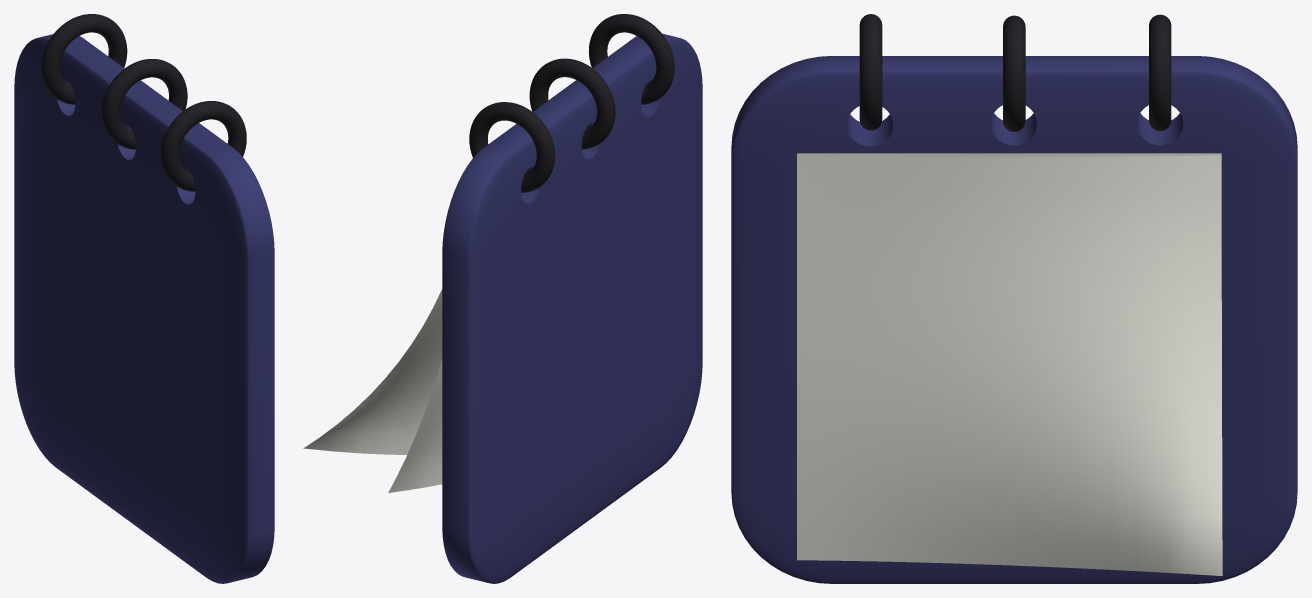
File: calendar1.glb
3 renders of one model, left to right at view 1: azimuth 30°, elevation 25°; view 2: azimuth 150°, elevation 25°; view 3: azimuth 270°, elevation 25°, orthographic. The views are drawn at different scales.
Visible parts, largest first — view 1: Cube, Torus.002, Torus, Torus.001; view 2: Cube, Plane.002, Plane.001, Torus, Torus.001, Torus.002; view 3: Plane.002, Cube, Torus.002, Torus.001, Torus, Plane.001.
Part boxes in pixels (bbox=[...]): Cube: bbox=[14, 34, 274, 583]; Torus.002: bbox=[161, 101, 246, 191]; Torus: bbox=[41, 14, 127, 104]; Torus.001: bbox=[101, 59, 187, 149]; Cube: bbox=[442, 33, 702, 583]; Plane.002: bbox=[303, 289, 442, 454]; Plane.001: bbox=[388, 359, 442, 492]; Torus: bbox=[469, 102, 555, 192]; Torus.001: bbox=[529, 58, 615, 149]; Torus.002: bbox=[588, 14, 674, 104]; Plane.002: bbox=[797, 155, 1222, 575]; Cube: bbox=[731, 56, 1297, 583]; Torus.002: bbox=[859, 14, 882, 130]; Torus.001: bbox=[1003, 15, 1025, 131]; Torus: bbox=[1149, 14, 1171, 131]; Plane.001: bbox=[797, 153, 1221, 157].
Bounding box in the file's own units: 0.6363 × 1.25 × 1.15.
